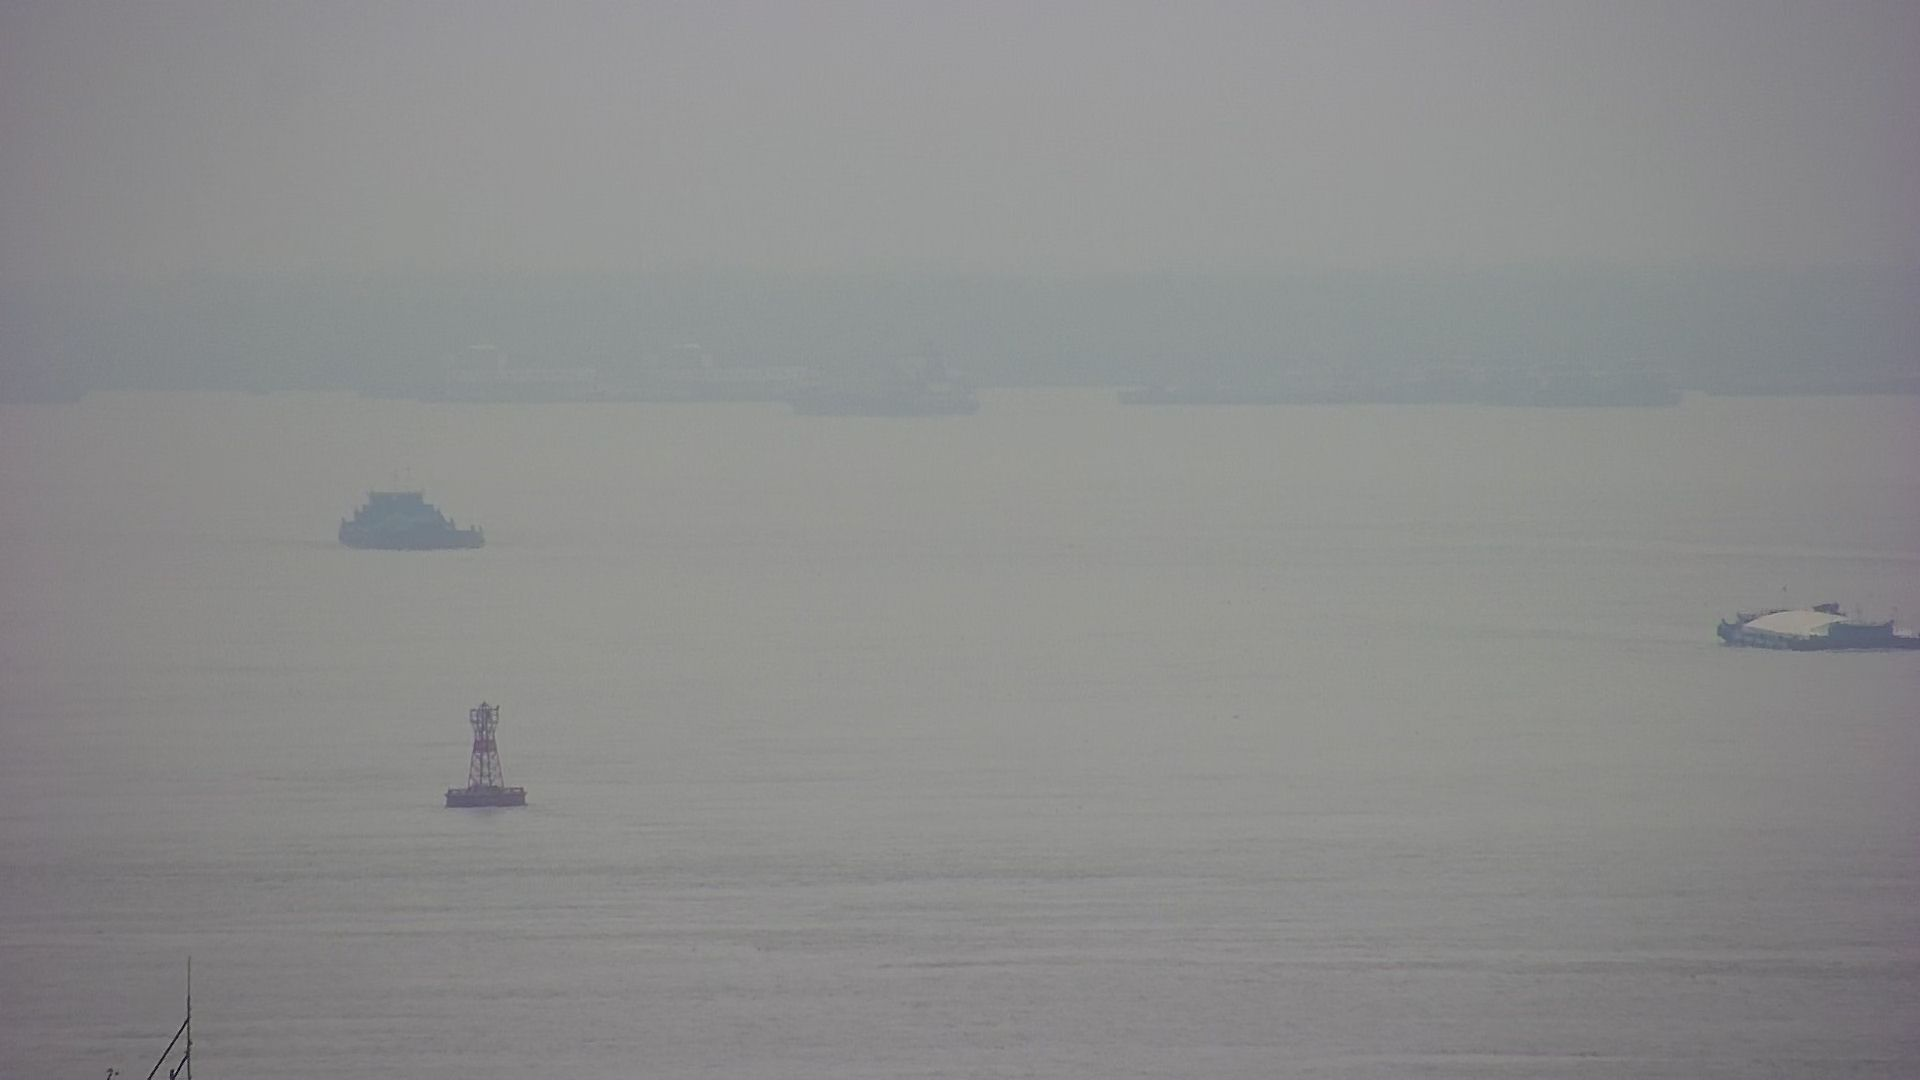buoy: (444, 700, 527, 818)
mast: (88, 956, 204, 1080)
ship: (1704, 588, 1920, 655), (336, 483, 485, 555)
